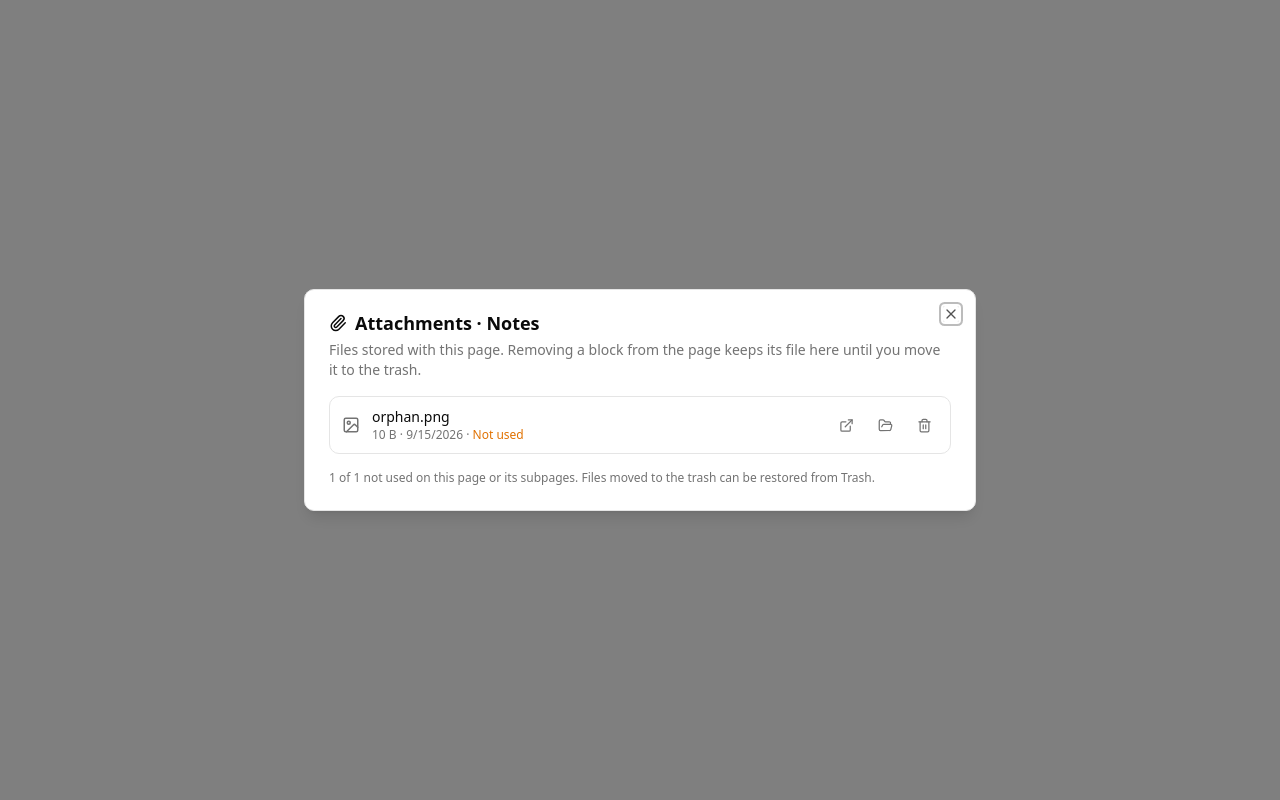
Test: reveals the folder on desktop and refreshes when this page's files change
The image size is (1280, 800).
Expected: the text "orphan.png" is shown, [372,407,450,426]
Click the button named "Show orphan.png in folder".
click(886, 425)  # box [872,412,899,438]
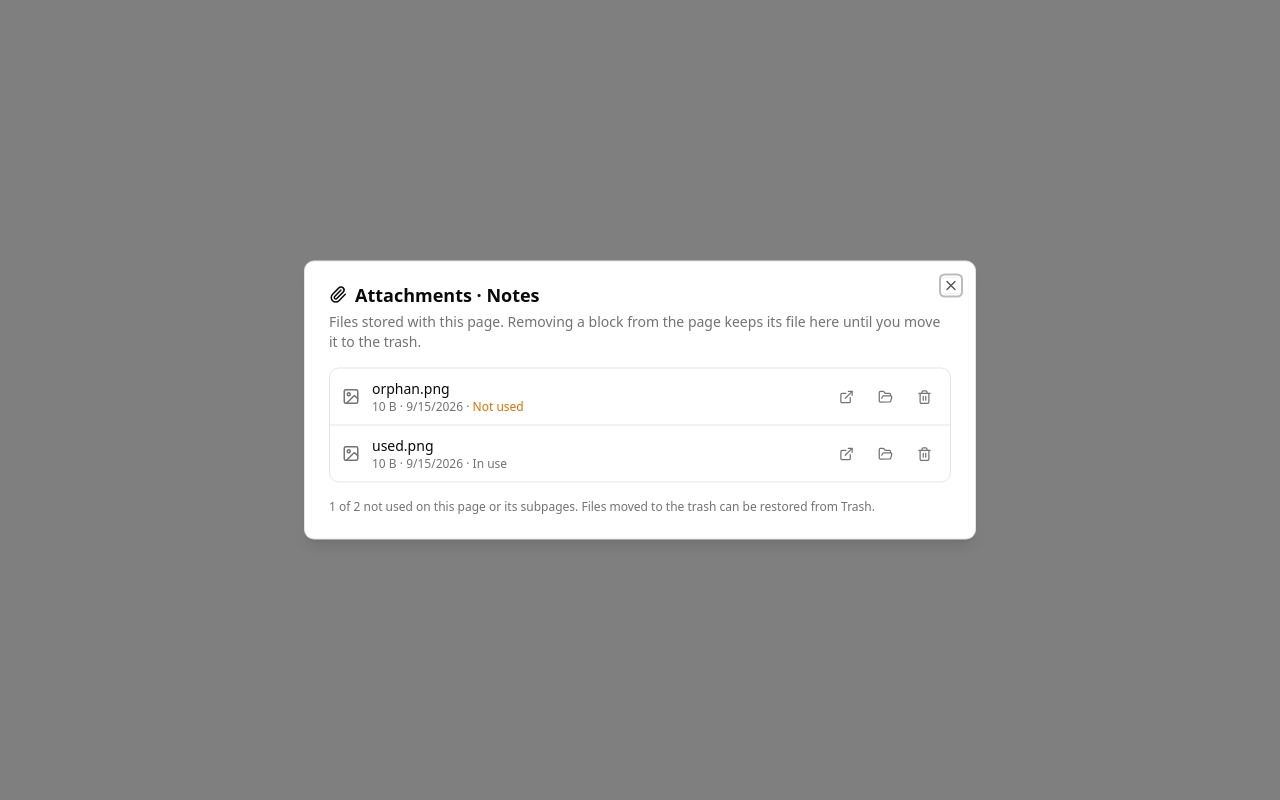
Result: the text "used.png" is shown at [372,436,434,454]
